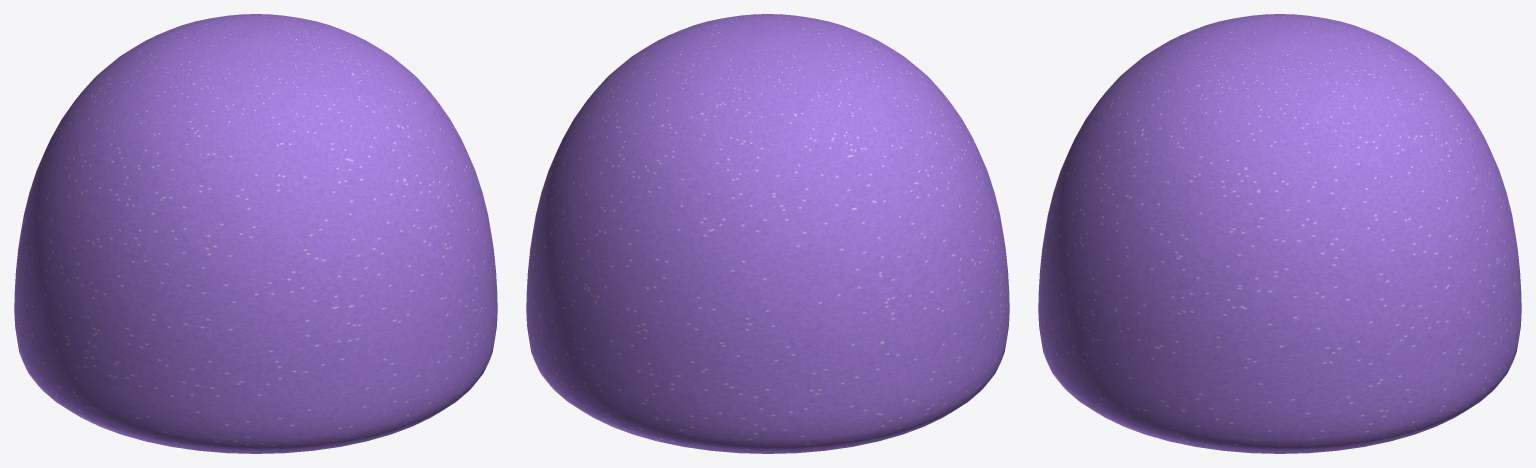
The model's file is gumdrop_violet.glb.
3 renders of one model, left to right at view 1: azimuth 30°, elevation 25°; view 2: azimuth 150°, elevation 25°; view 3: azimuth 270°, elevation 25°, orthographic.
Parts seen in each view (by area): view 1: gumdrop; view 2: gumdrop; view 3: gumdrop.
Part boxes in pixels (x1,y1,x2,y2): gumdrop: (14, 14, 497, 453); gumdrop: (526, 14, 1009, 453); gumdrop: (1038, 14, 1521, 453).
Bounding box in the file's own units: 2 × 1.48 × 2.
Materials: 1 (1 with a texture image).
